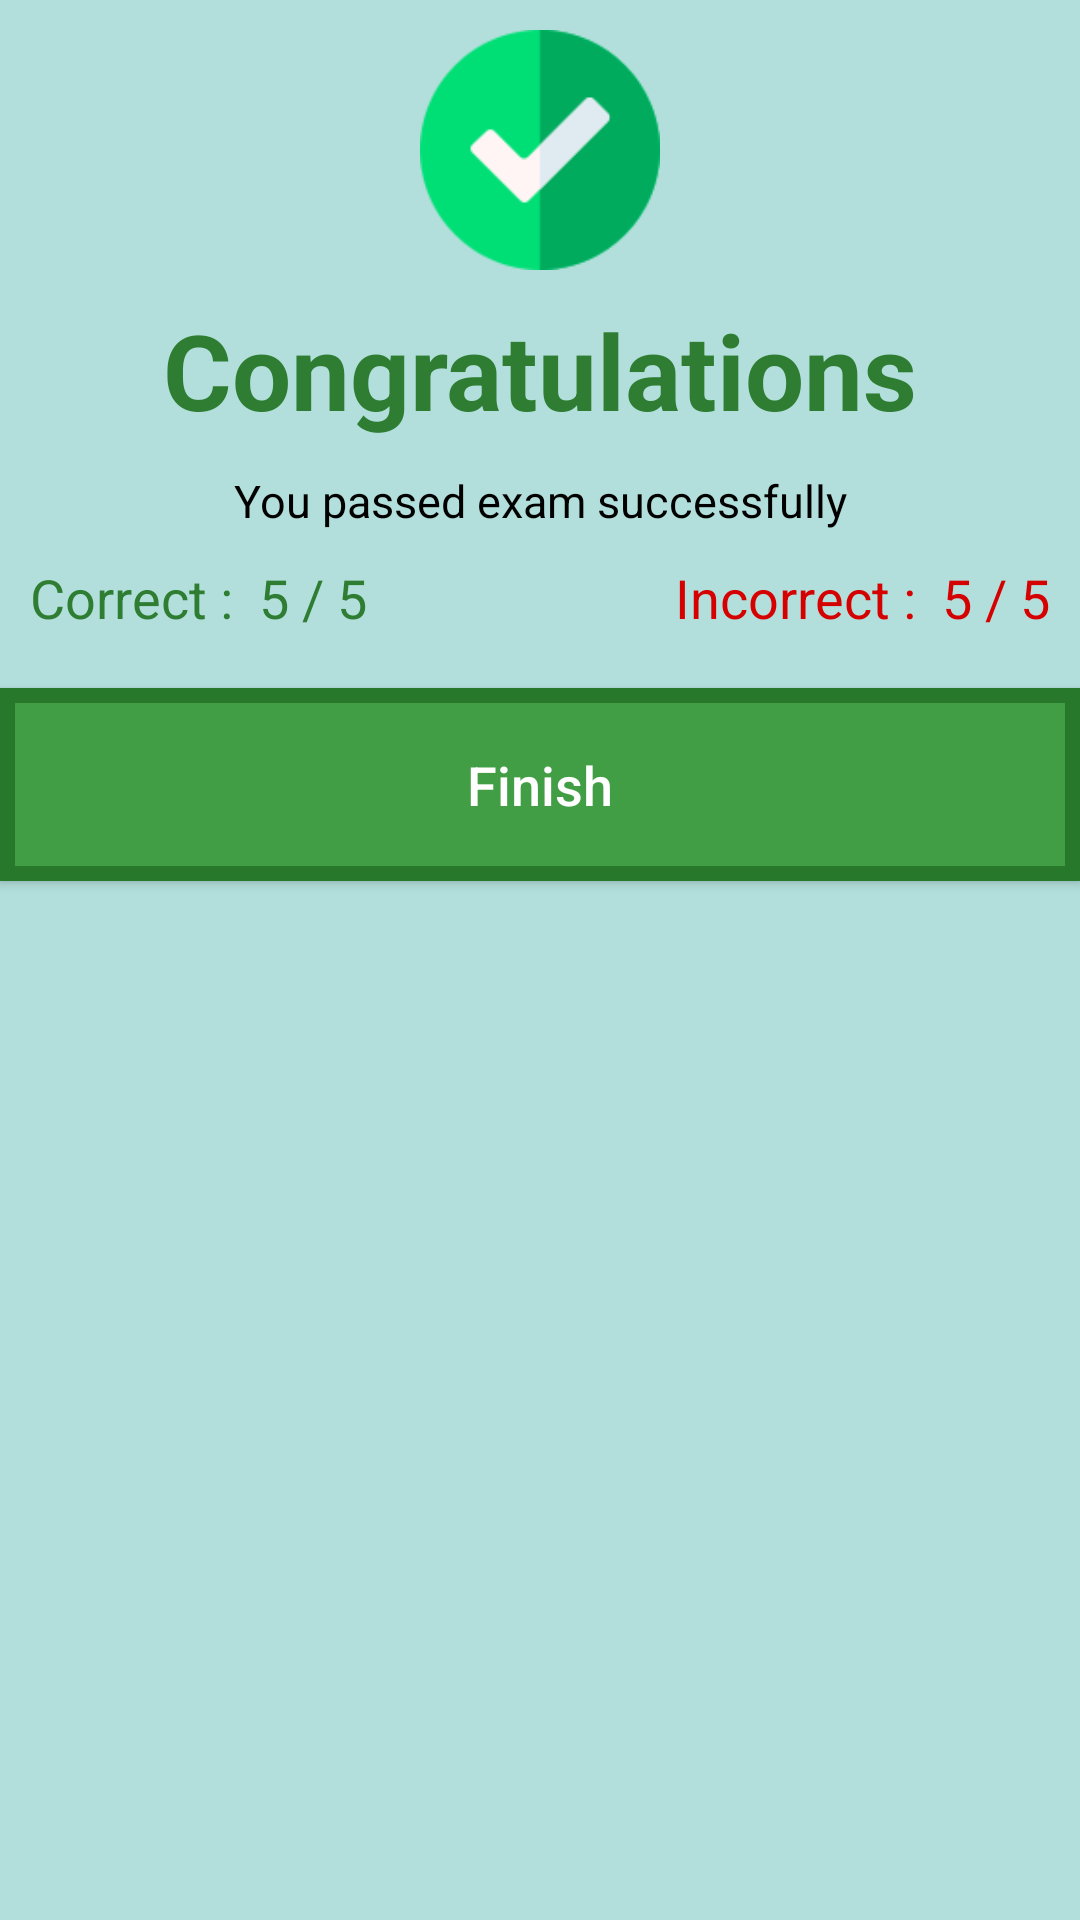

Locate icon controls on the screen. Image size 1080*1920, boxes as (x1, y1, x2, y2).
check: (420, 30, 660, 270)
